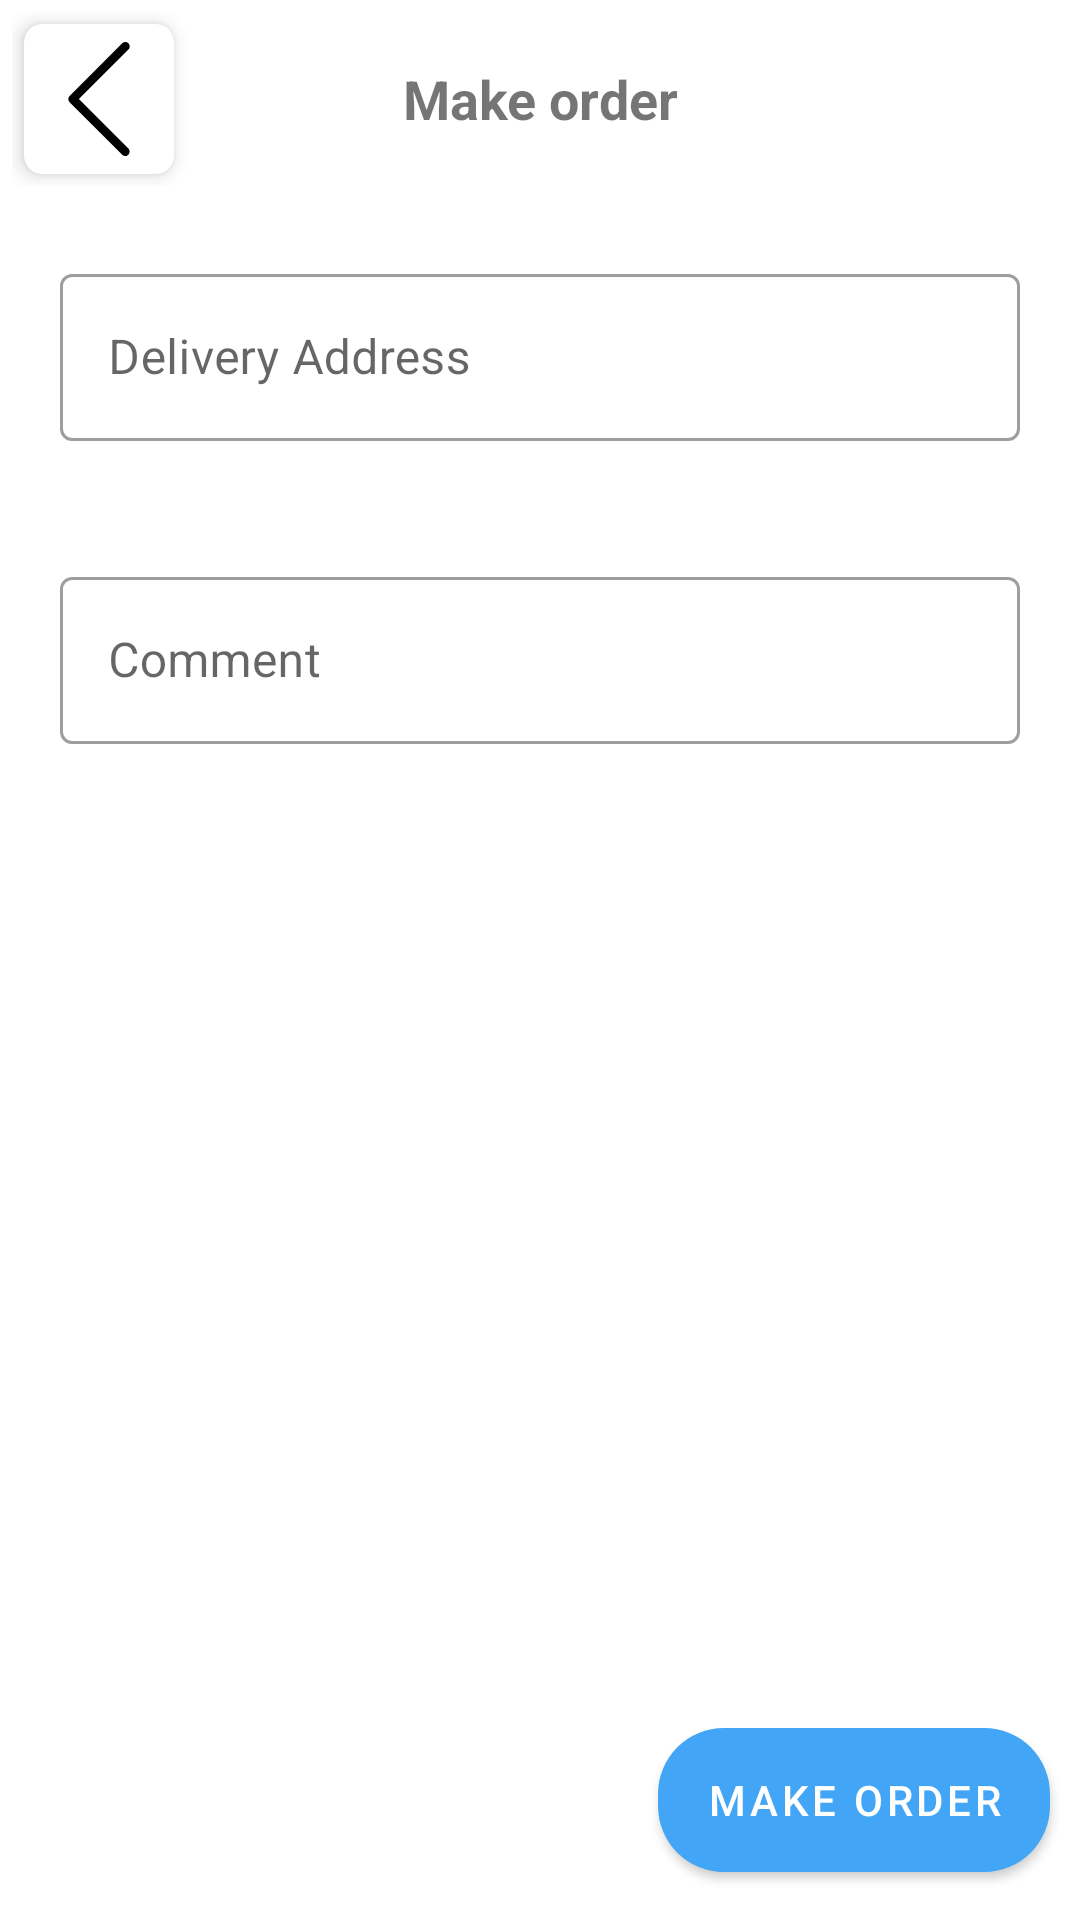

Icons on this 1080 x 1920 Android screen, each with the point to tap as (x,y):
left arrow: (99,99)
